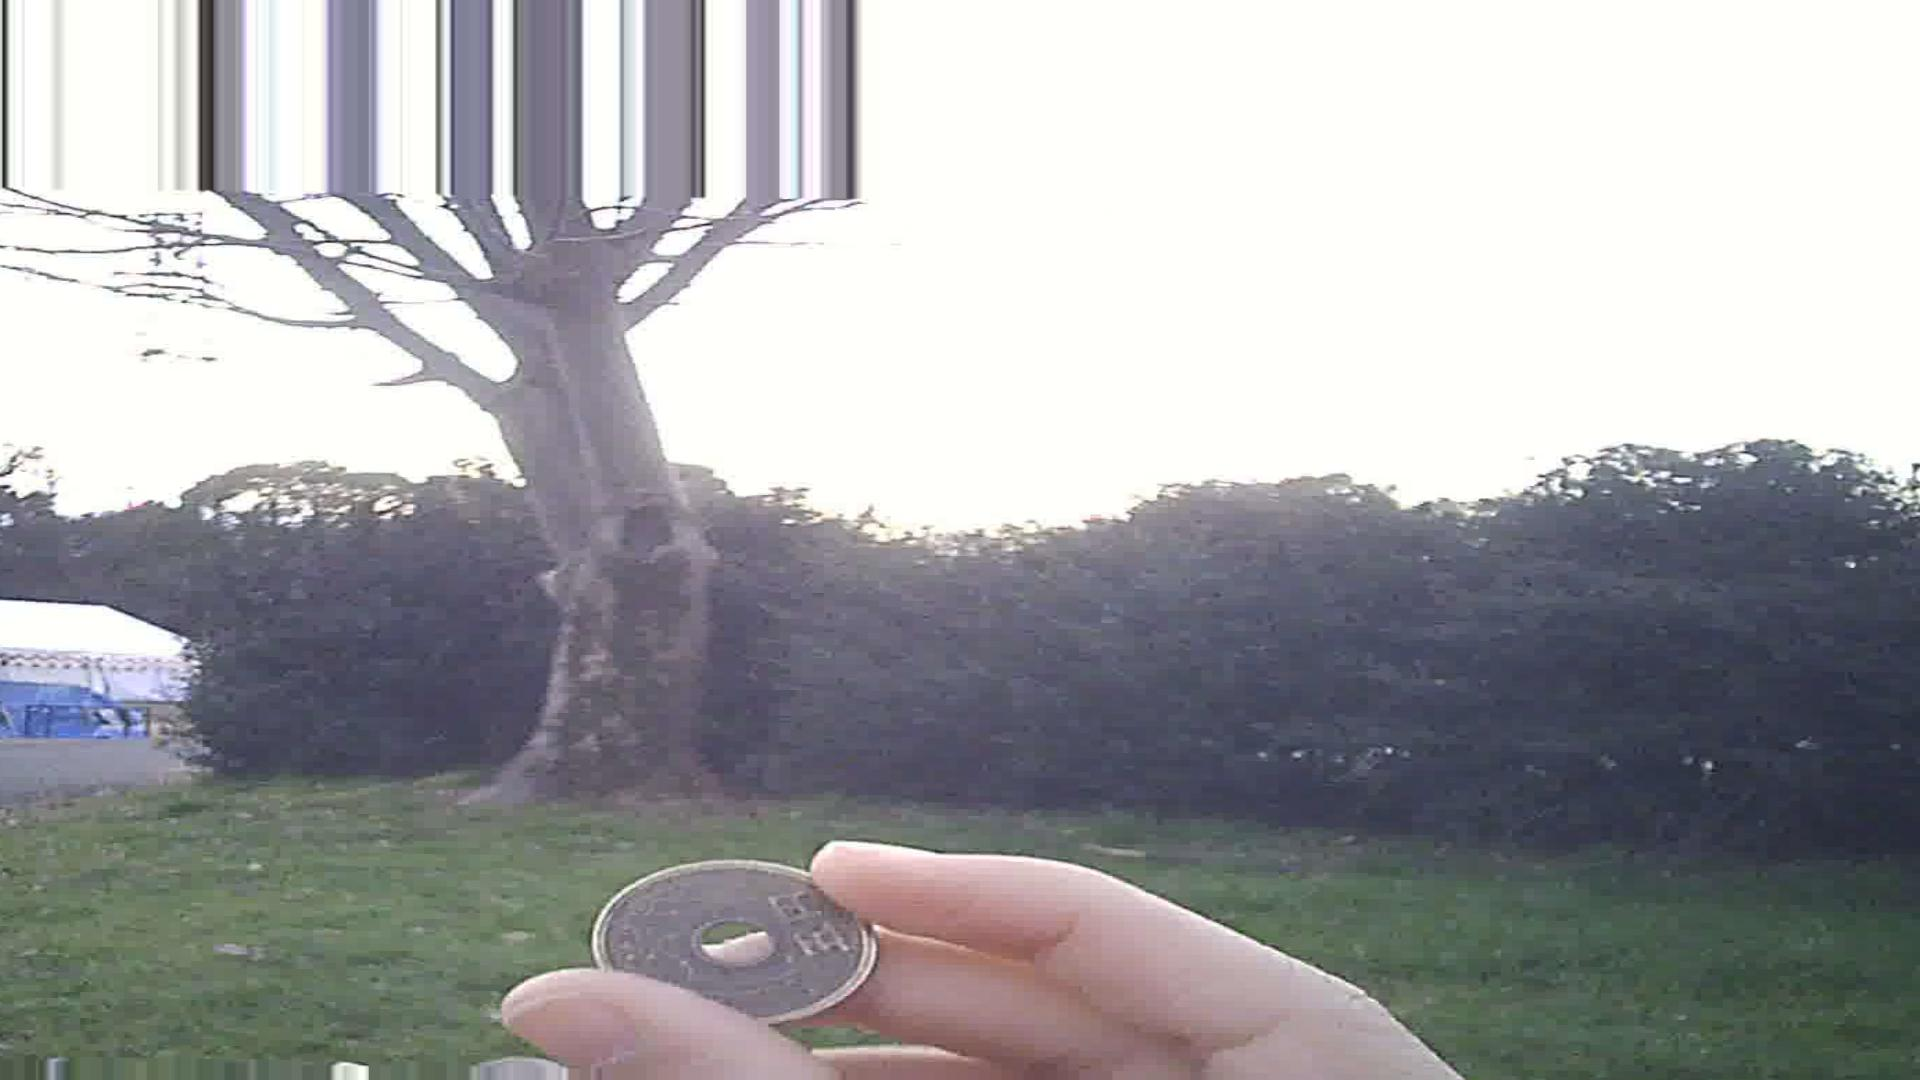5 Yen: (587, 851, 873, 1035)
